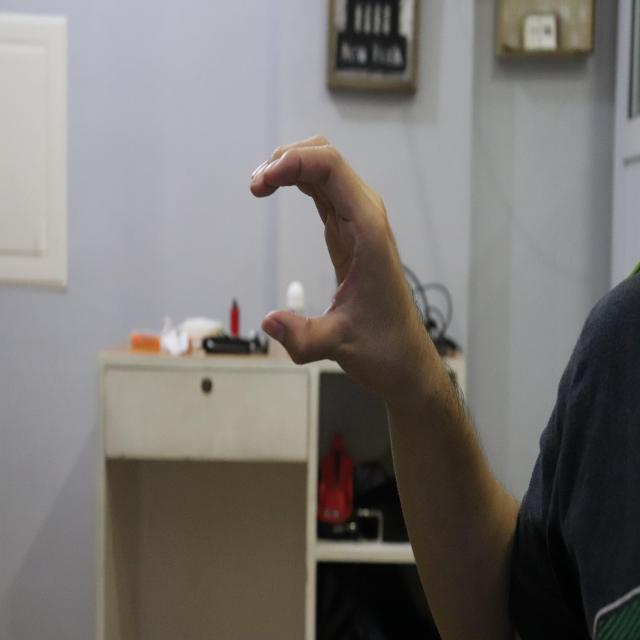C: (250, 132, 416, 394)
